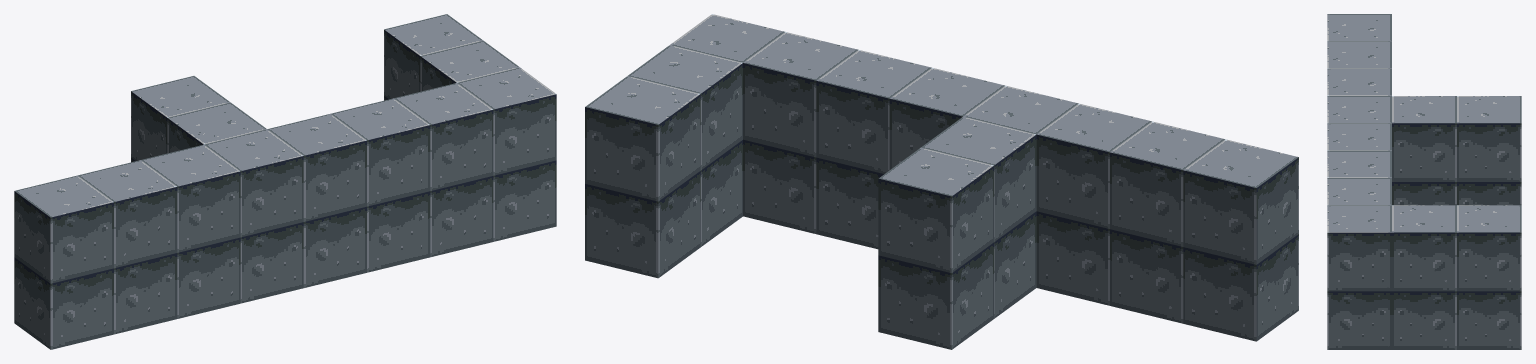
Rendered from wall8x2a.fbx.
The picture shows the model from 3 angles, left to right: view 1: azimuth 30°, elevation 25°; view 2: azimuth 150°, elevation 25°; view 3: azimuth 270°, elevation 25°; orthographic projection. The views are drawn at different scales.
Visible parts, largest first — view 1: wal8x2.002; view 2: wal8x2.002; view 3: wal8x2.002.
Part boxes in pixels (x1,y1,x2,y2): wal8x2.002: (14,14,556,349); wal8x2.002: (585,14,1298,349); wal8x2.002: (1327,14,1521,349).
Bounding box in the file's own units: 800 × 200 × 300.
